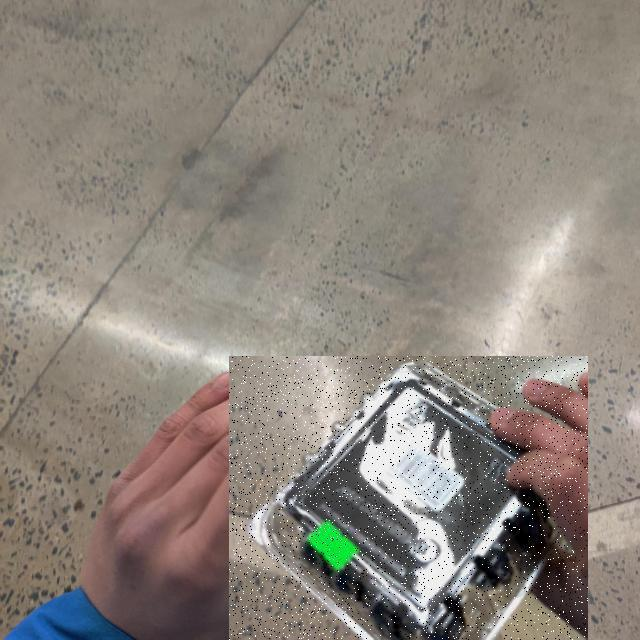Black Berries: (229, 356, 588, 640)
